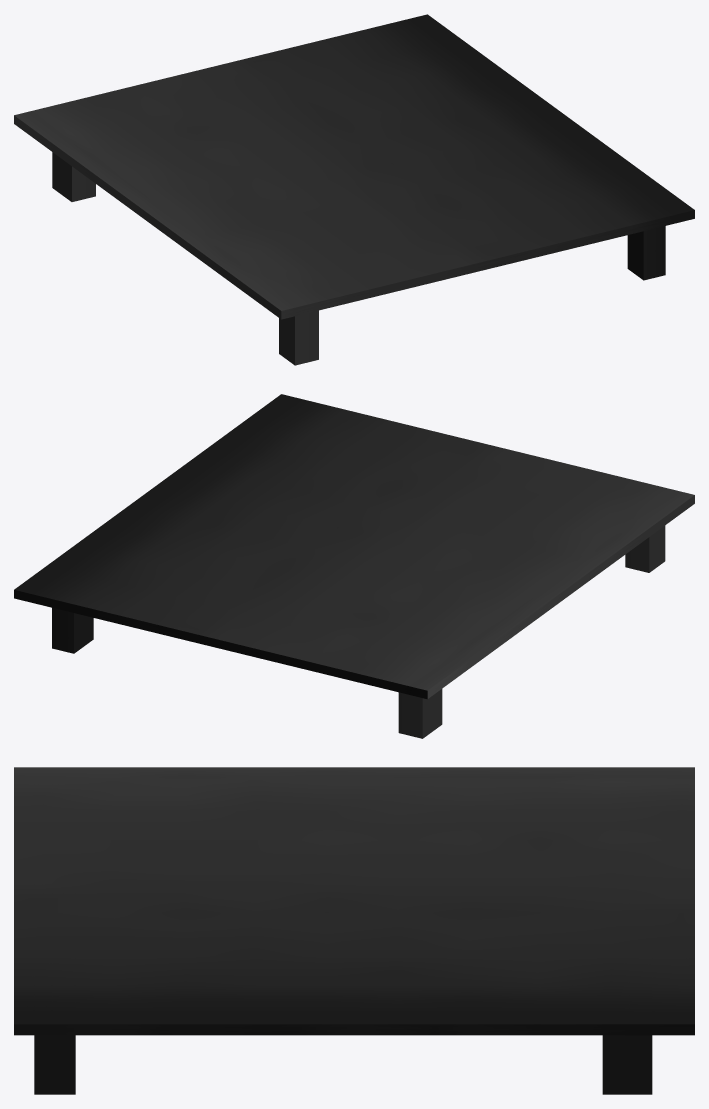
The model's file is Tarima.fbx.
The picture shows the model from 3 angles, top to bottom: view 1: azimuth 30°, elevation 25°; view 2: azimuth 150°, elevation 25°; view 3: azimuth 270°, elevation 25°; orthographic projection. The views are drawn at different scales.
Visible parts, largest first — view 1: Tarima.001; view 2: Tarima.001; view 3: Tarima.001.
Boxes of the visible parts, x1,y1,x2,y2 form: Tarima.001: (14,14,694,365); Tarima.001: (14,394,694,738); Tarima.001: (14,767,694,1094).
Bounding box in the file's own units: 21.21 × 3.22 × 23.75.
Materials: 1 (1 with a texture image).
